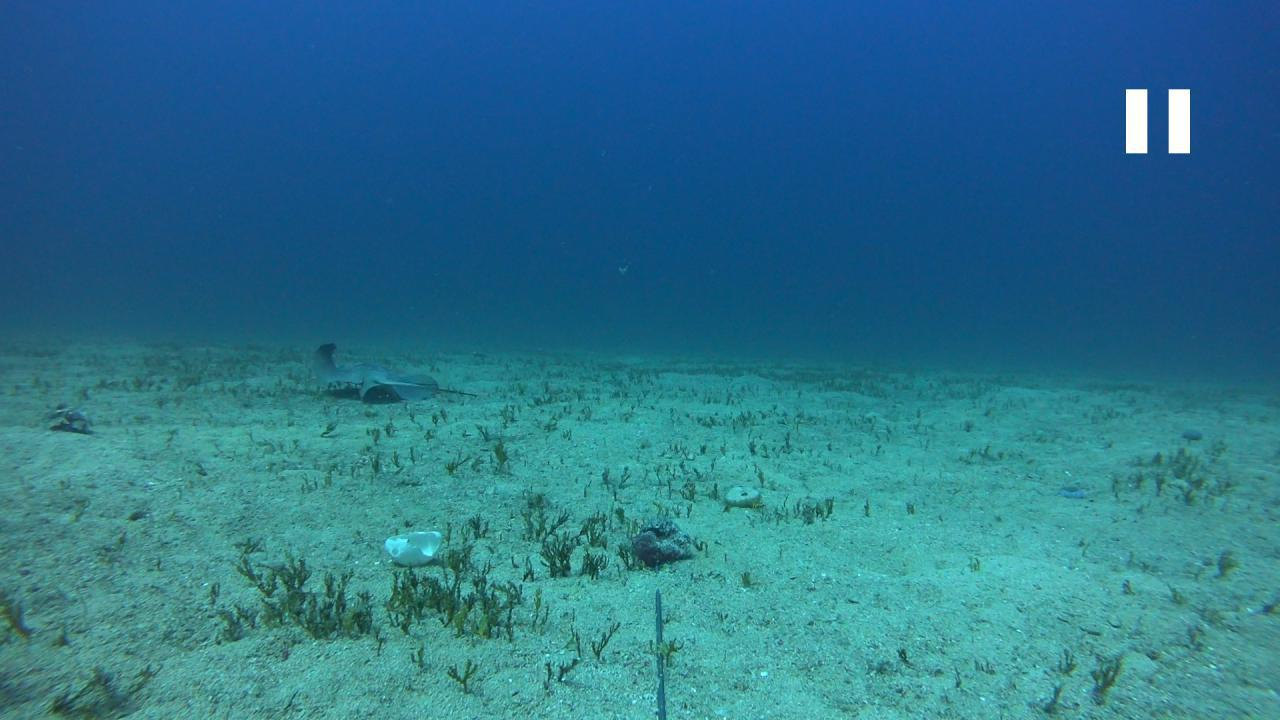dasyatis: (310, 341, 478, 400)
